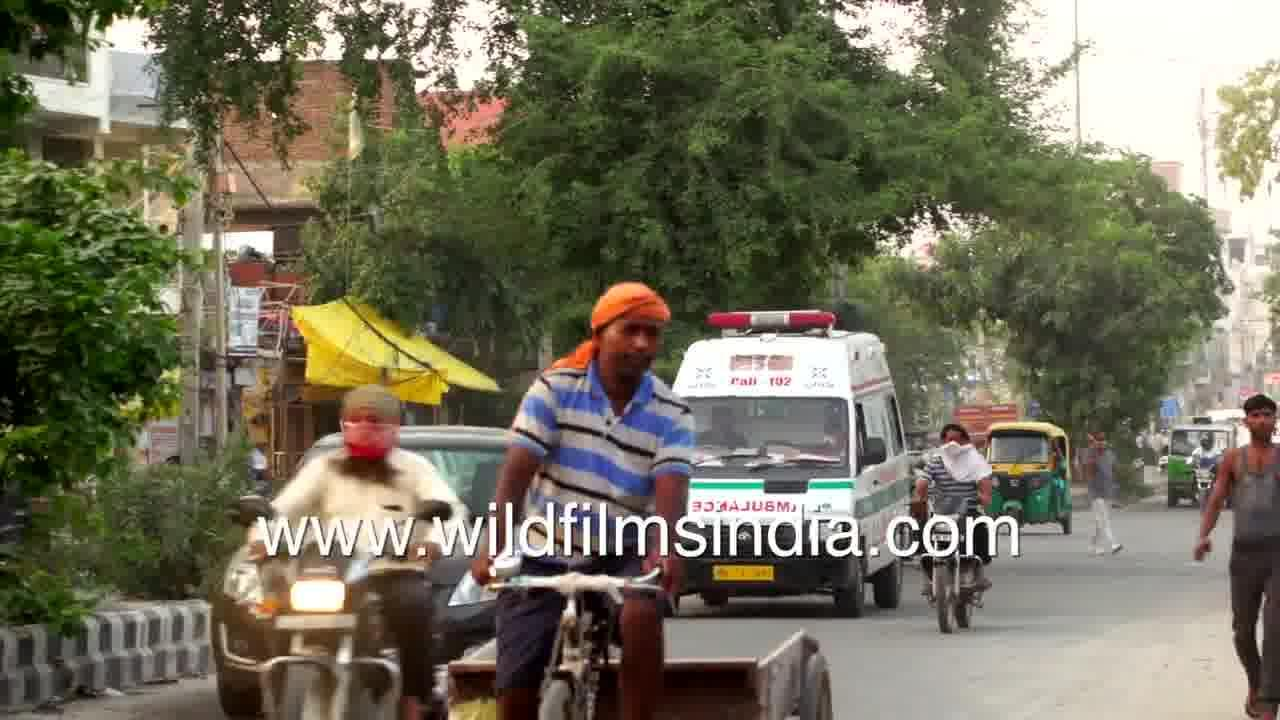AMBULANCE: (685, 293, 935, 615)
